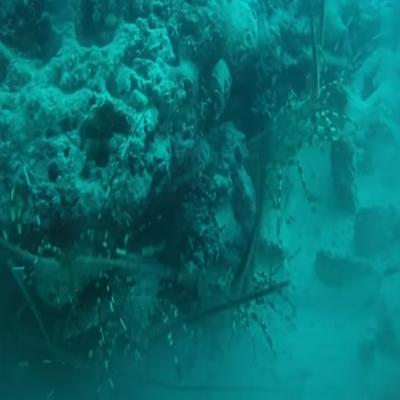lobster: (33, 252, 80, 308)
